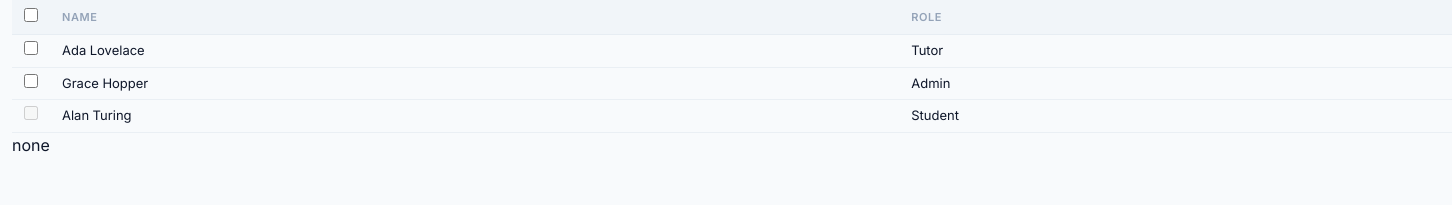
DataTable — row selection › never selects a row the caller said is not selectable
The width and height of the screenshot is (1452, 205).
Click the checkbox named "Select all on this page" at coordinates (31, 15), box [24, 8, 38, 22]
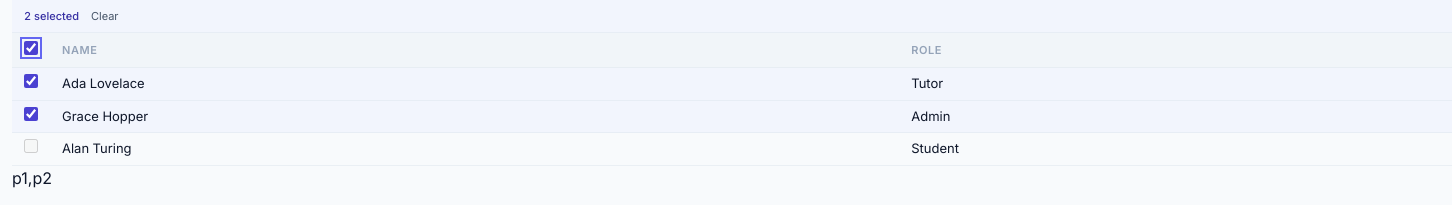
Check: the checkbox named "Select row p3" is disabled, box [24, 139, 38, 153]
Check: the text with test id "selected" reads "p1,p2", box [12, 168, 52, 188]
